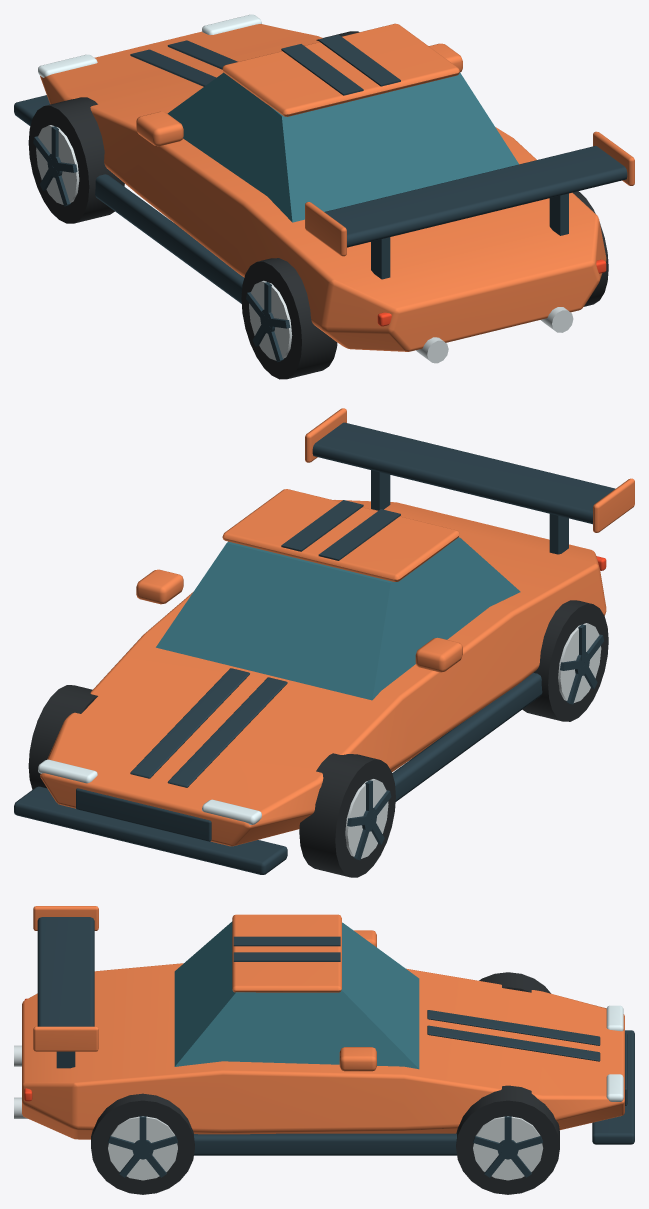
Rendered from CoastGT.fbx.
3 views of the same model, one above another, from view 1: azimuth 30°, elevation 25°; view 2: azimuth 150°, elevation 25°; view 3: azimuth 270°, elevation 25° (orthographic). The views are drawn at different scales.
Parts seen in each view (by area): view 1: SculptedBody, PanoramicCabin, RearWing, RoofPanel, WheelFL, WheelRL, SideSkirt, RoofStripe, RoofStripe.001, WingEndplate, Mirror, HoodStripe (+10 smaller); view 2: SculptedBody, PanoramicCabin, RearWing, RoofPanel, WheelFL, WheelRL, FrontSplitter, SideSkirt, FrontIntake, HoodStripe, HoodStripe.001, WheelFR (+10 smaller); view 3: SculptedBody, PanoramicCabin, WheelFR, WheelRR, RoofPanel, RearWing, SideSkirt.001, FrontSplitter, HoodStripe.001, HoodStripe, WingEndplate.001, RoofStripe (+6 smaller).
Part boxes in pixels (bbox=[...]): SculptedBody: bbox=[40, 24, 606, 351]; PanoramicCabin: bbox=[167, 72, 518, 222]; RearWing: bbox=[324, 146, 627, 247]; RoofPanel: bbox=[222, 23, 459, 116]; WheelFL: bbox=[28, 97, 124, 223]; WheelRL: bbox=[241, 258, 337, 379]; SideSkirt: bbox=[95, 174, 244, 303]; RoofStripe: bbox=[281, 44, 363, 95]; RoofStripe.001: bbox=[318, 34, 400, 86]; WingEndplate: bbox=[305, 202, 346, 256]; Mirror: bbox=[136, 111, 183, 146]; HoodStripe: bbox=[130, 49, 216, 86]; SculptedBody: bbox=[40, 500, 606, 846]; PanoramicCabin: bbox=[156, 537, 520, 700]; RearWing: bbox=[312, 422, 615, 524]; RoofPanel: bbox=[222, 489, 459, 581]; WheelFL: bbox=[299, 753, 395, 877]; WheelRL: bbox=[522, 600, 608, 721]; FrontSplitter: bbox=[14, 786, 287, 874]; SideSkirt: bbox=[392, 672, 542, 801]; FrontIntake: bbox=[76, 788, 211, 841]; HoodStripe: bbox=[167, 677, 287, 787]; HoodStripe.001: bbox=[130, 668, 249, 778]; WheelFR: bbox=[28, 685, 97, 789]; SculptedBody: bbox=[22, 963, 624, 1139]; PanoramicCabin: bbox=[174, 921, 419, 1069]; WheelFR: bbox=[456, 1085, 559, 1194]; WheelRR: bbox=[91, 1093, 194, 1194]; RoofPanel: bbox=[232, 914, 341, 992]; RearWing: bbox=[37, 917, 94, 1026]; SideSkirt.001: bbox=[194, 1133, 456, 1155]; FrontSplitter: bbox=[592, 1030, 634, 1144]; HoodStripe.001: bbox=[427, 1025, 600, 1061]; HoodStripe: bbox=[427, 1010, 600, 1045]; WingEndplate.001: bbox=[33, 1026, 98, 1051]; RoofStripe: bbox=[233, 936, 340, 946].
Bounding box in the file's own units: 2.21 × 1.41 × 4.35.
